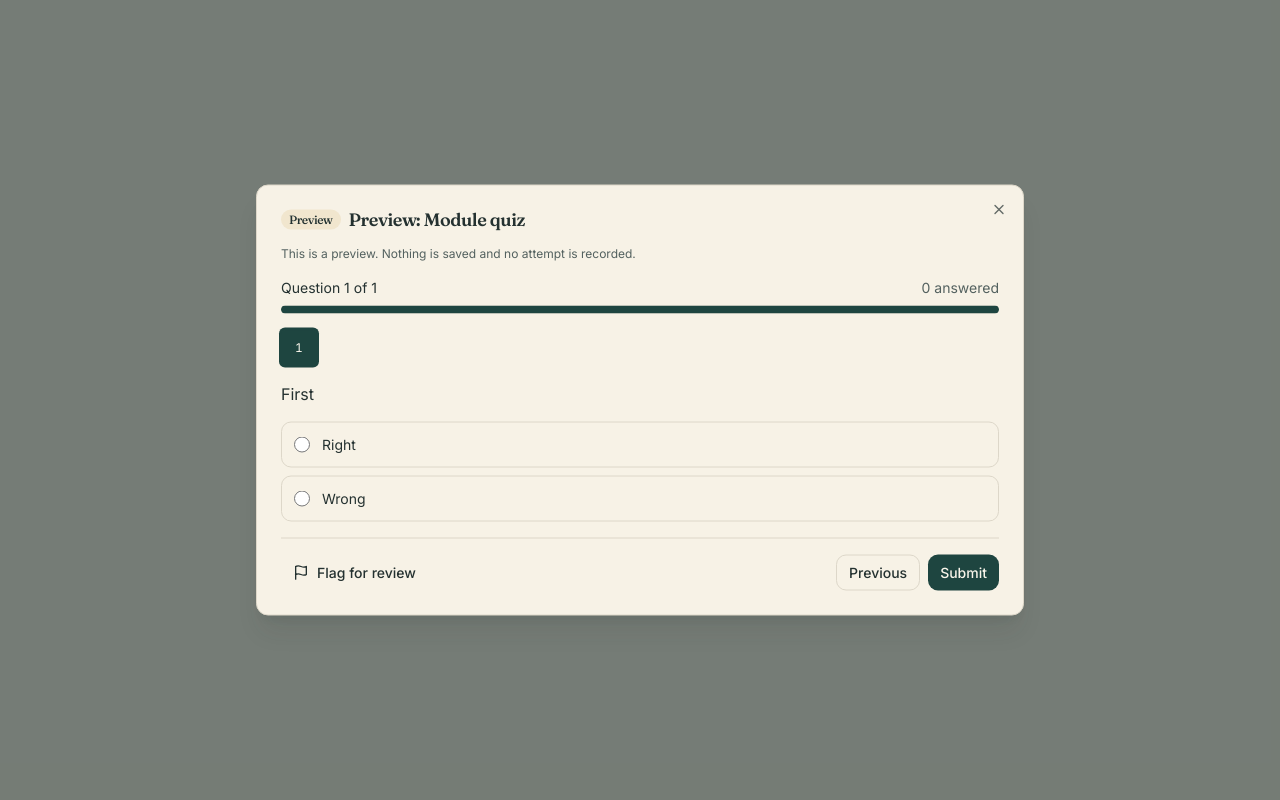
Test case: AssessmentPreview › asks for confirmation when questions are unanswered
Click the button "Submit": (964, 572) [928,554,999,590]
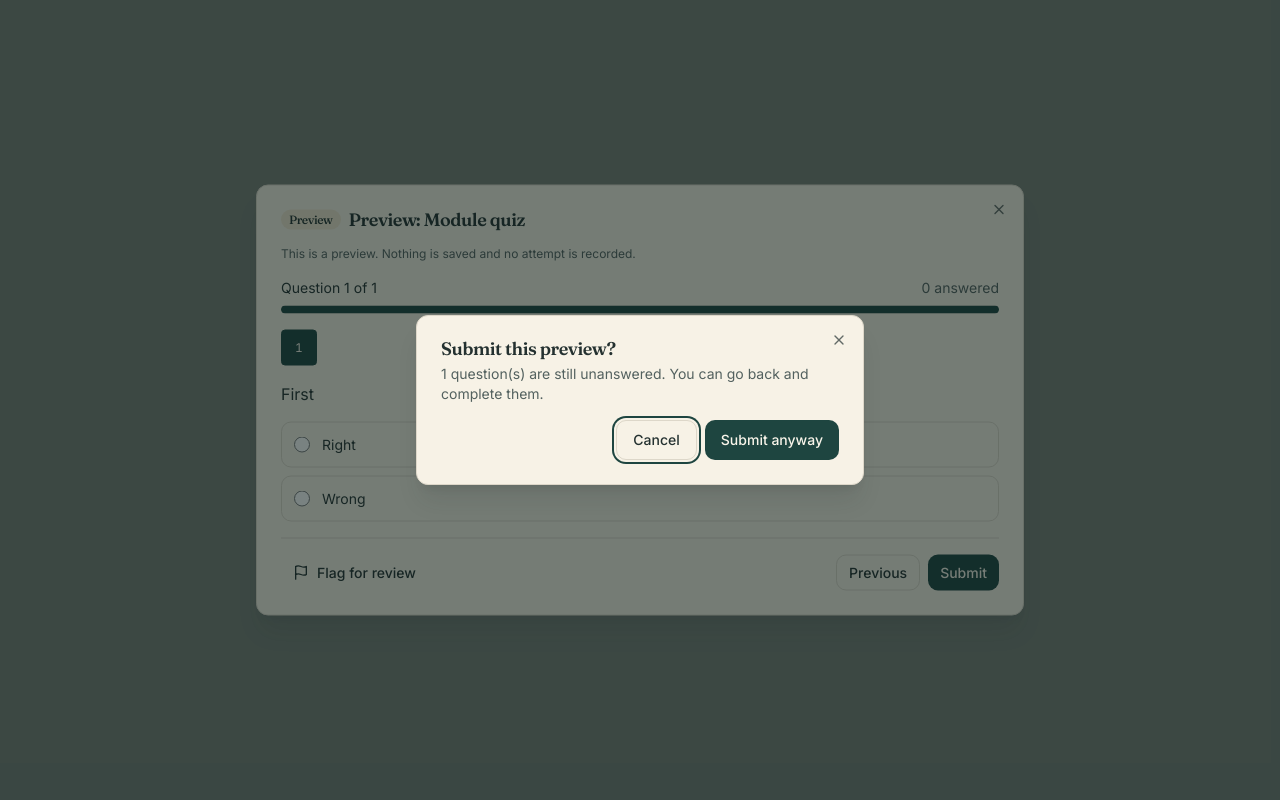
Expected: the text "1 question(s) are still unanswered" is shown, [441,365,808,402]
